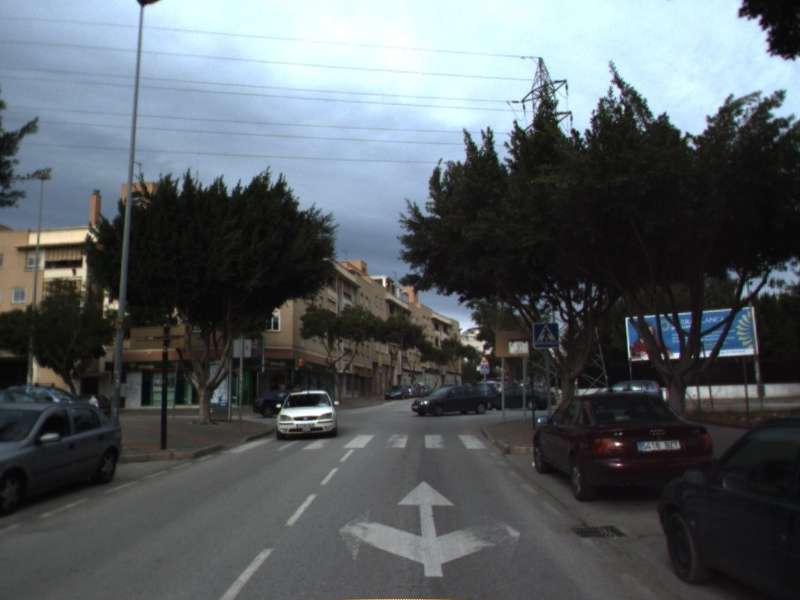STRAIGHT_LEFT_RIGHT: (335, 478, 524, 580)
